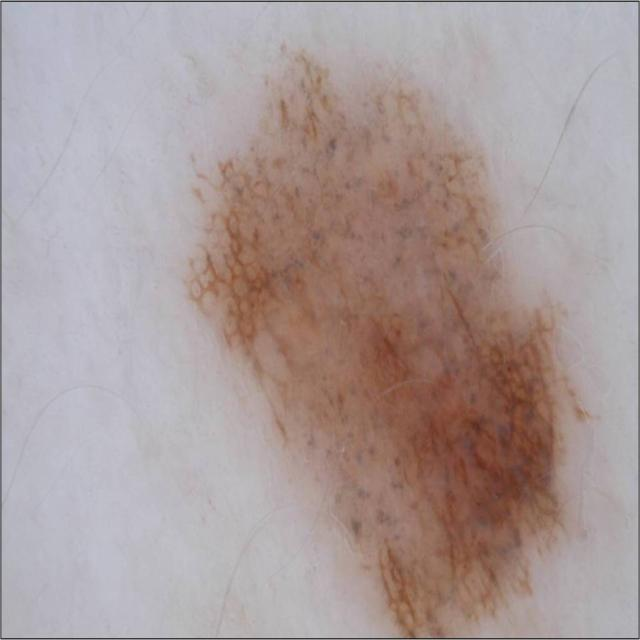Benign: (175, 39, 602, 635)
